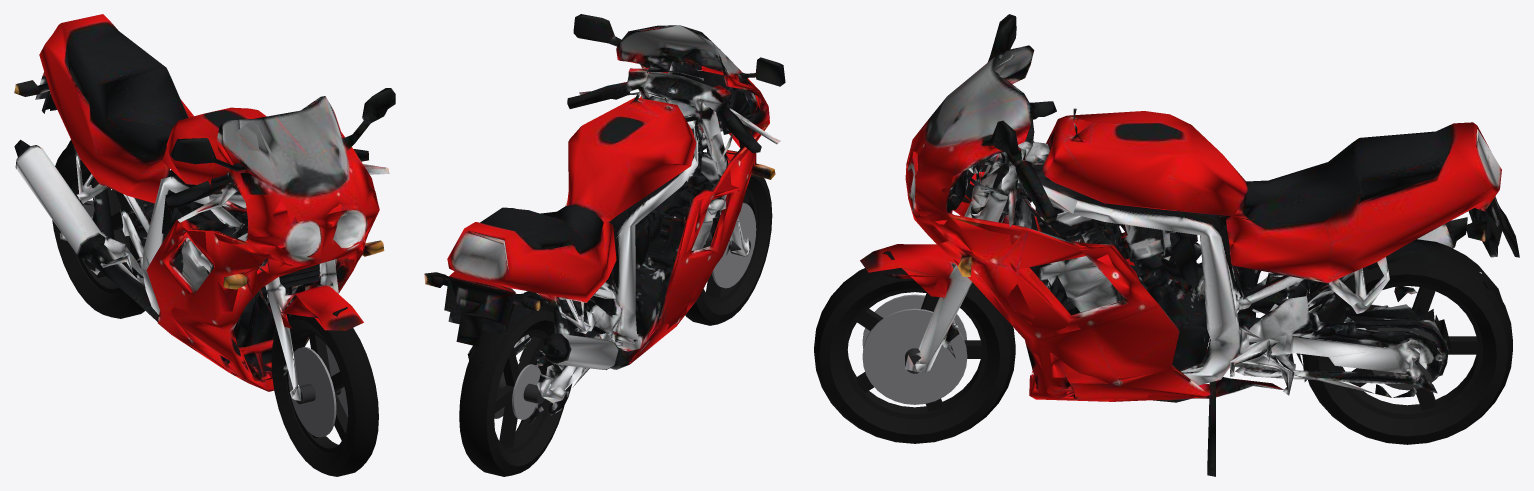
Rendered from sport-bike.glb.
3 views of the same model, side by side, from view 1: azimuth 30°, elevation 25°; view 2: azimuth 150°, elevation 25°; view 3: azimuth 270°, elevation 25° (orthographic). The views are drawn at different scales.
Parts seen in each view (by area): view 1: body, wheel_f, steer, wheel_r; view 2: body, wheel_r, wheel_f, steer; view 3: body, wheel_f, wheel_r, steer.
Part boxes in pixels (x1=…): body: x1=14, y1=14, x2=395, y2=391; wheel_f: x1=271, y1=314, x2=378, y2=476; steer: x1=165, y1=149, x2=389, y2=401; wheel_r: x1=52, y1=142, x2=144, y2=318; body: x1=424, y1=14, x2=785, y2=425; wheel_r: x1=459, y1=305, x2=564, y2=476; wheel_f: x1=685, y1=174, x2=772, y2=325; steer: x1=567, y1=72, x2=780, y2=256; body: x1=905, y1=14, x2=1519, y2=476; wheel_f: x1=814, y1=268, x2=1015, y2=443; wheel_r: x1=1302, y1=253, x2=1512, y2=444; steer: x1=860, y1=101, x2=1077, y2=372.
Size of the model in its own units: 0.8713 by 1.24 by 2.1.
2 materials, 2 textured.
